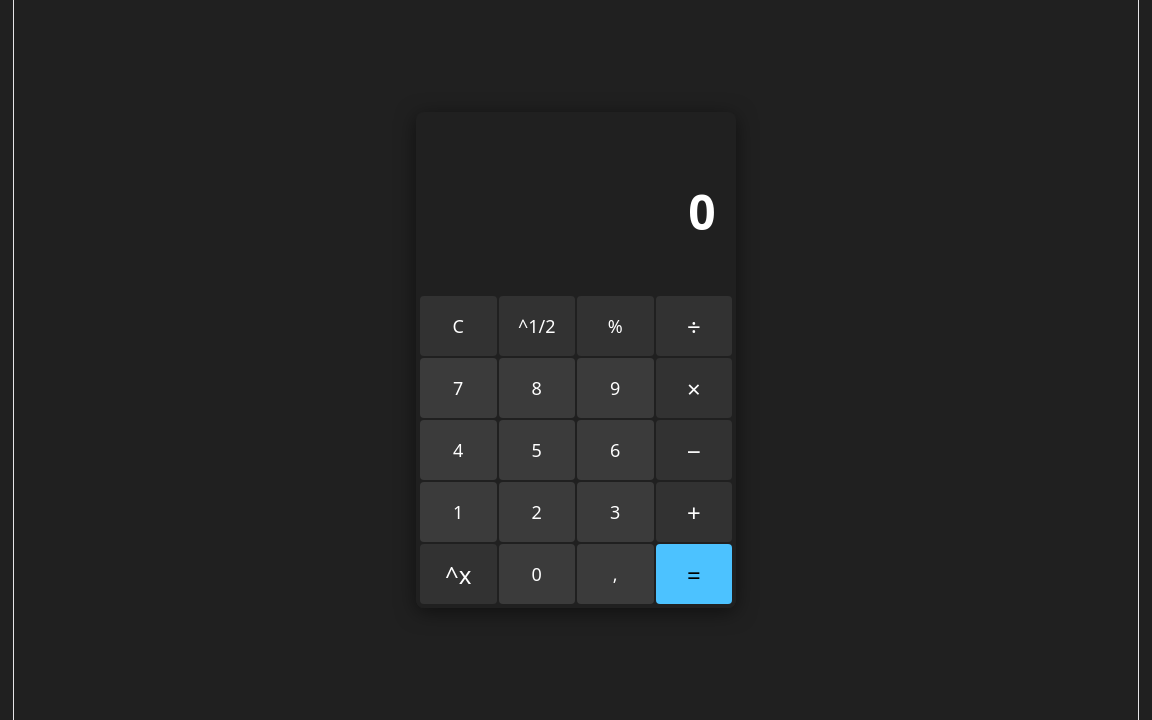
Test: App › clears the error state when a number is pressed after an error
What coordinates should you click on to do the following:
click the button "5"
I would click on:
 (537, 450)
Its box is 498,420 -> 575,480.
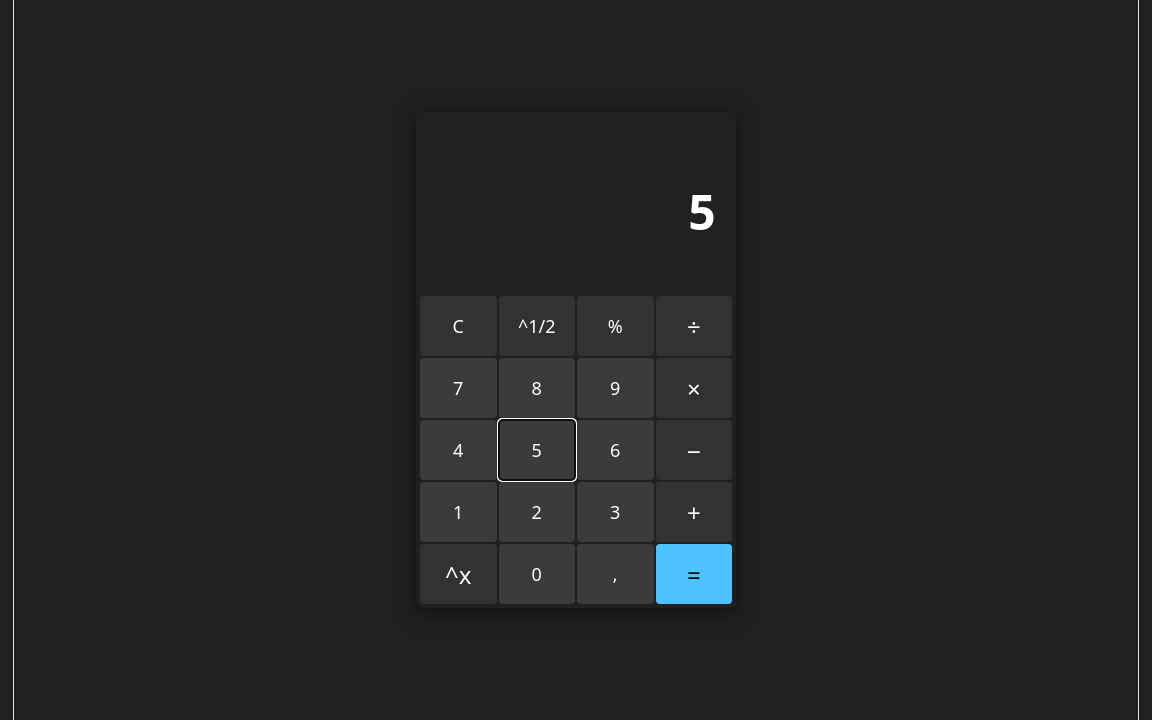
What coordinates should you click on to do the following:
click the button "÷"
I would click on:
 (694, 326)
Its box is 656,296 -> 732,356.
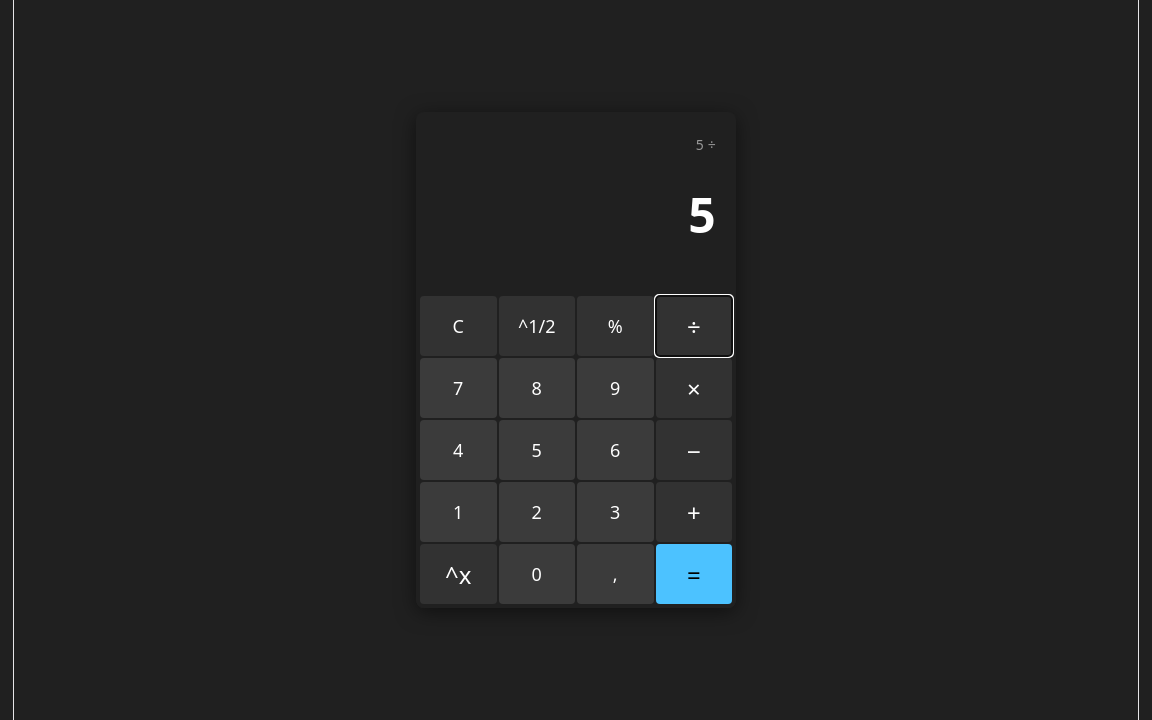
What coordinates should you click on to do the following:
click the button "0"
I would click on:
 (537, 574)
Its box is 498,544 -> 575,604.
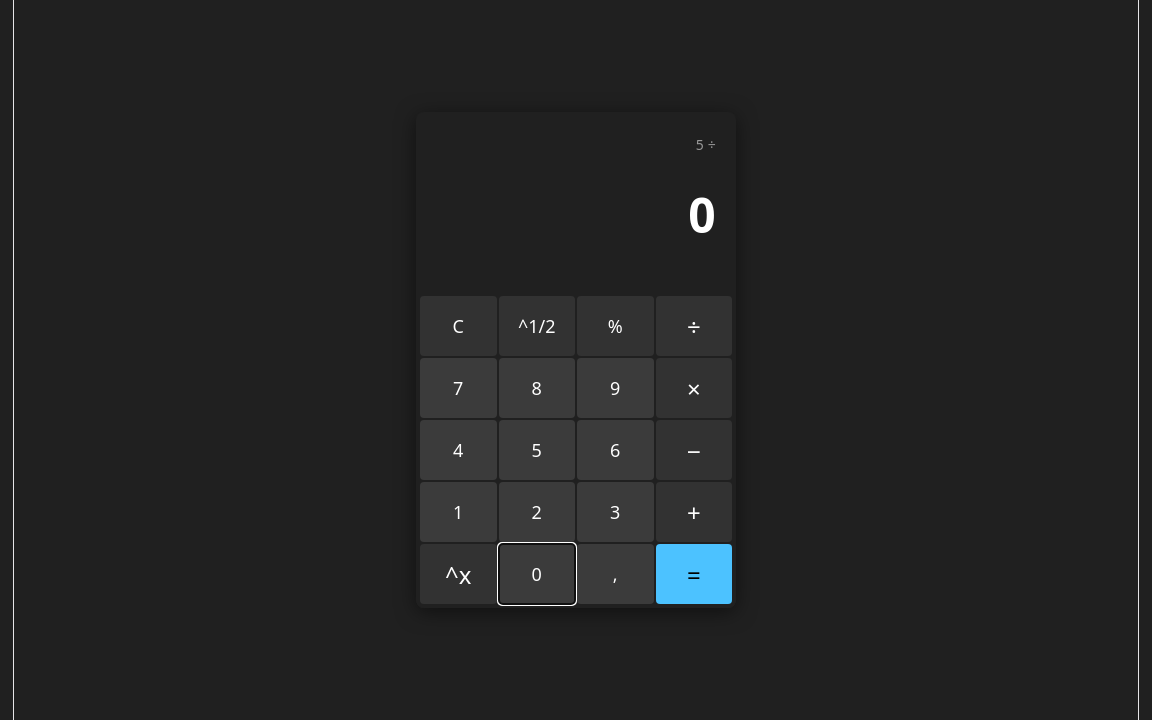
What coordinates should you click on to do the following:
click the button "="
I would click on:
 (694, 574)
Its box is 656,544 -> 732,604.
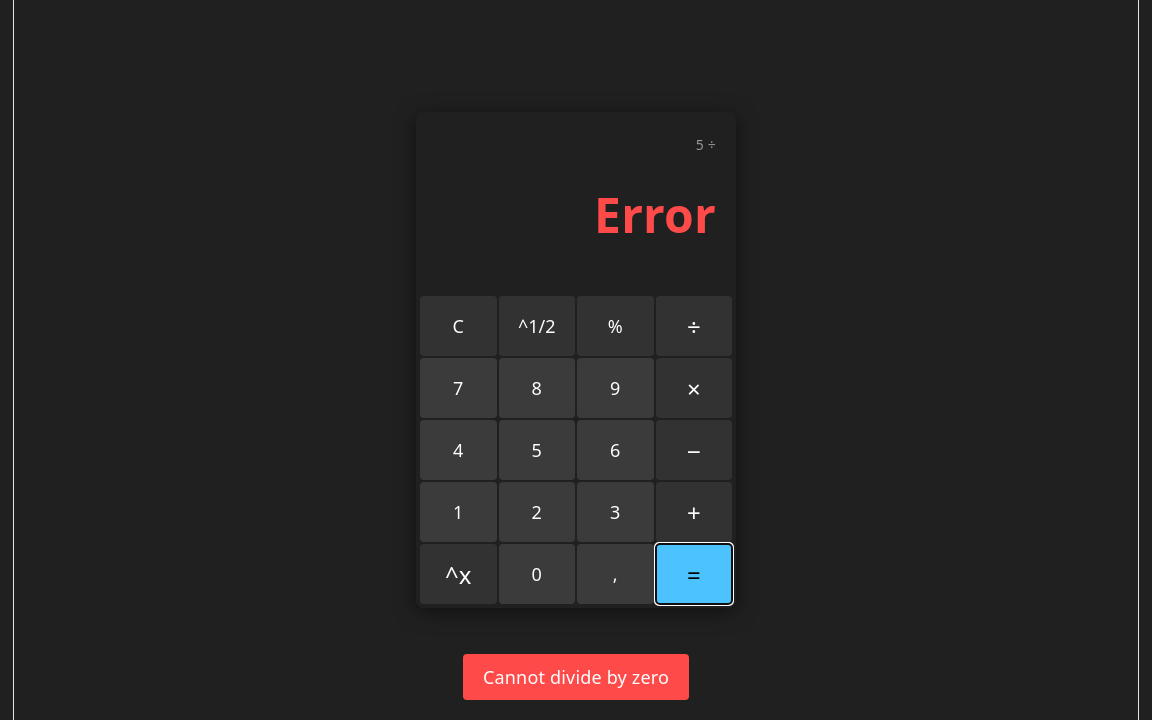
Expected: the text with class "current" reads "Error", 594,182 -> 716,247
What coordinates should you click on to do the following:
click the button "7"
I would click on:
 (458, 388)
Its box is 420,358 -> 496,418.
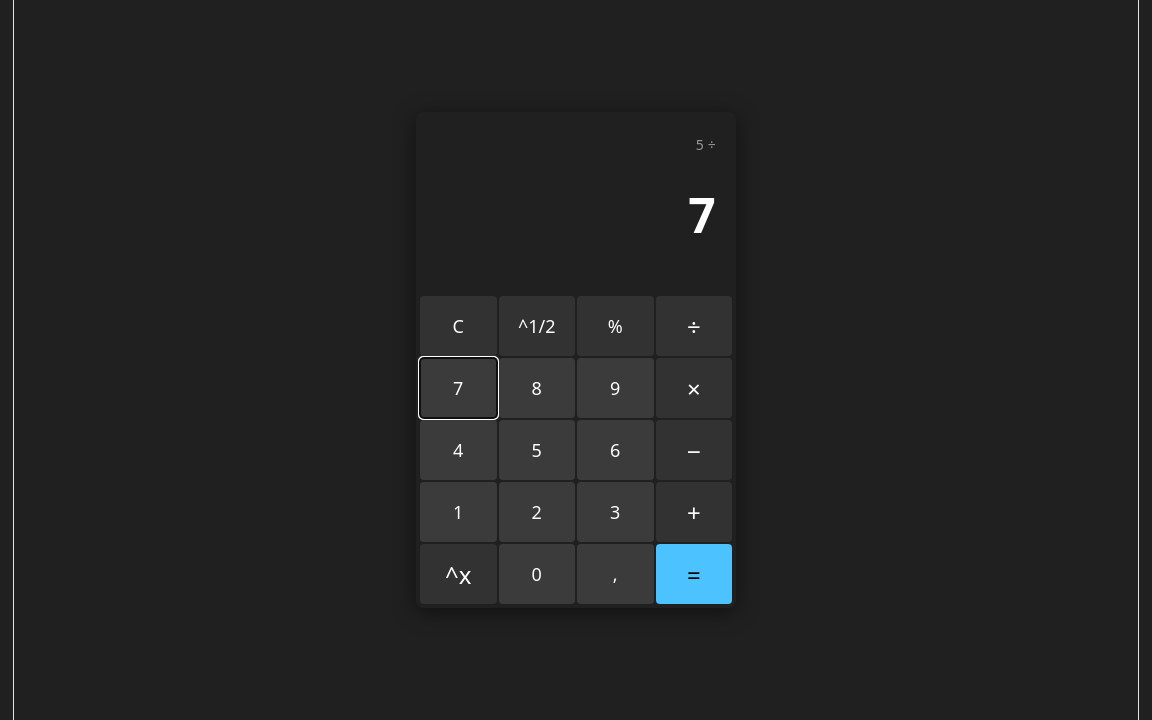
Expected: the text "Cannot divide by zero" is gone
